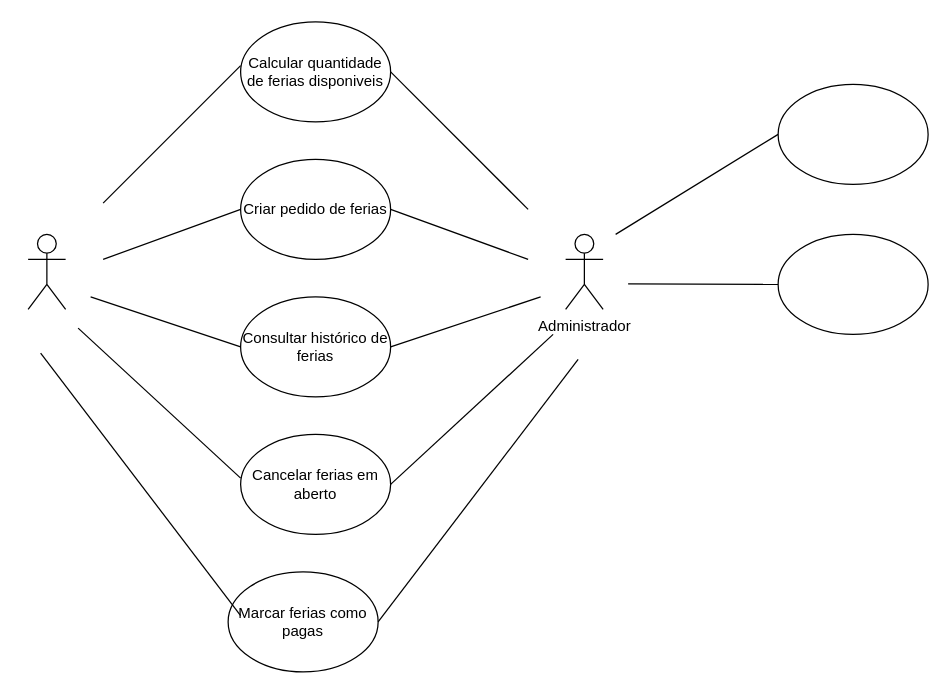
Image size: 950x694. Some labels were removed from this diagram. Each missing label, with the centre of its shape:
Aprovar pedido de ferias: (x=852, y=283)
Marcar ferias como não pagas: (x=852, y=133)
Usuario comum: (x=46, y=271)
